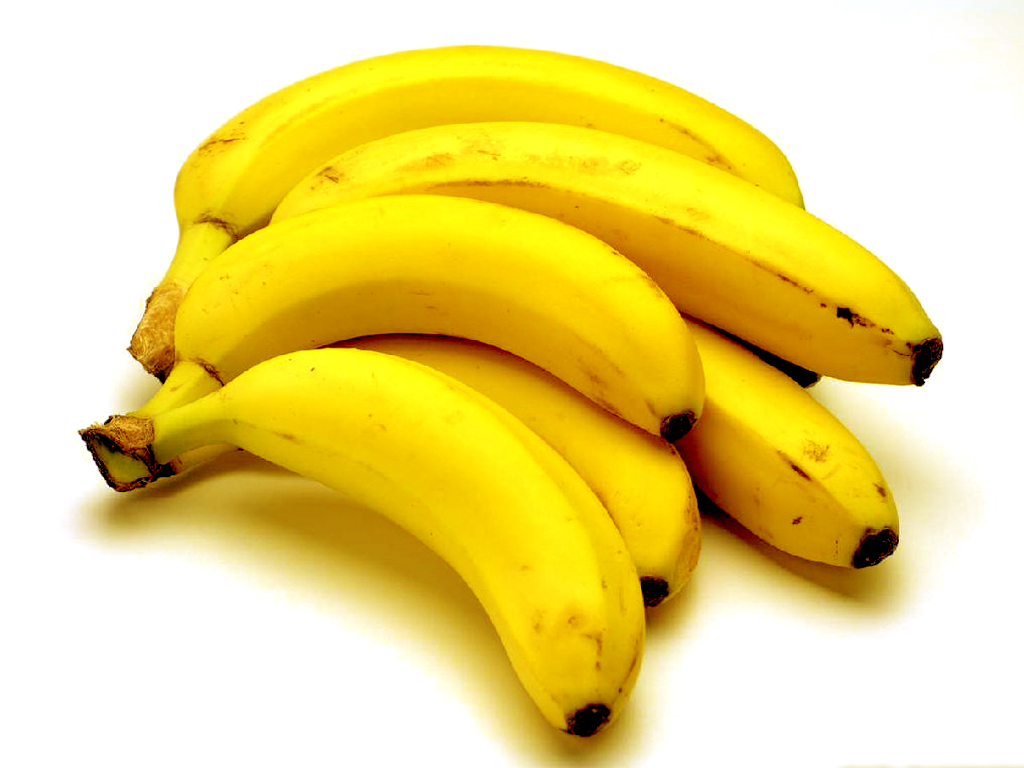looks_good: (33, 8, 976, 766)
